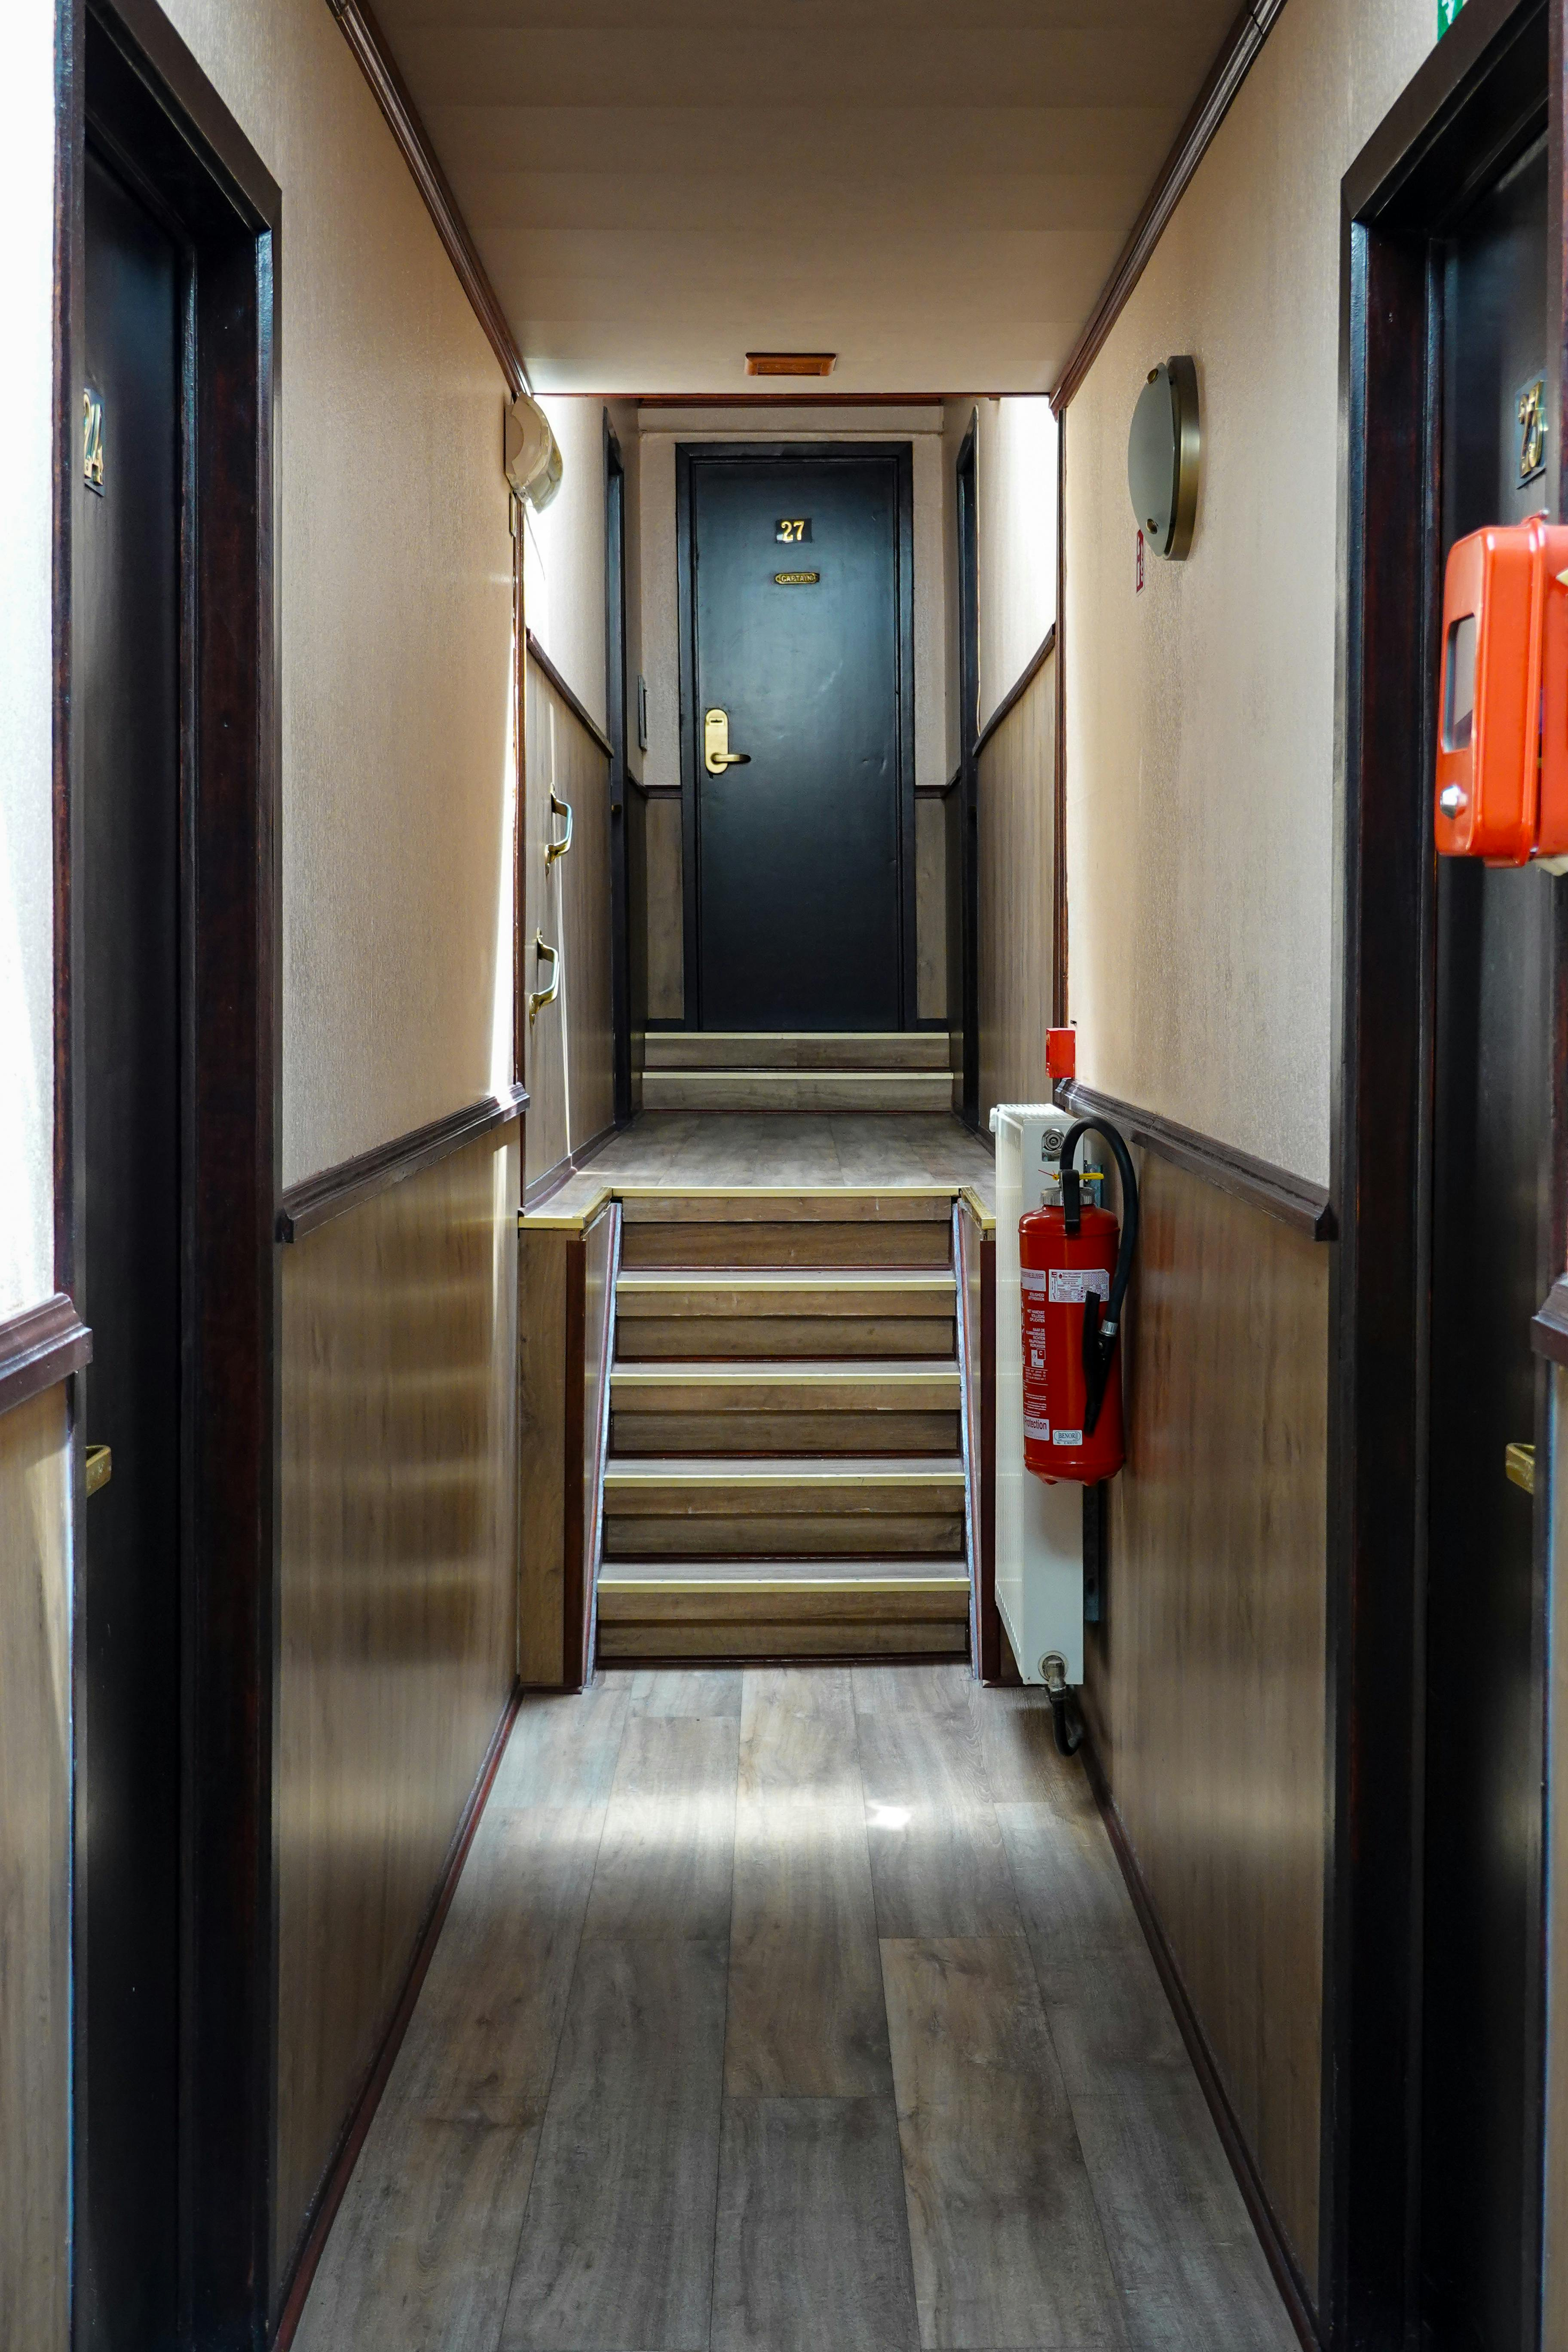extintor: (1010, 1108, 1155, 1494)
